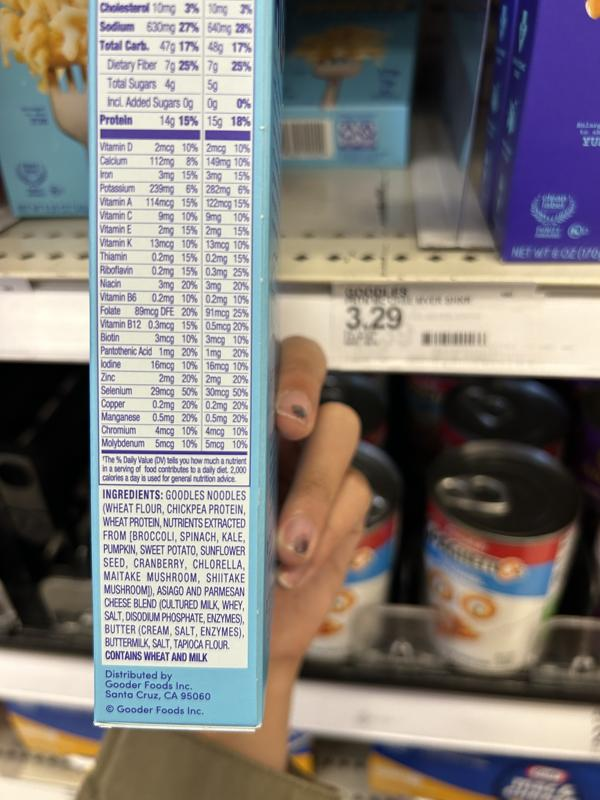ingredients: (100, 487, 246, 650)
